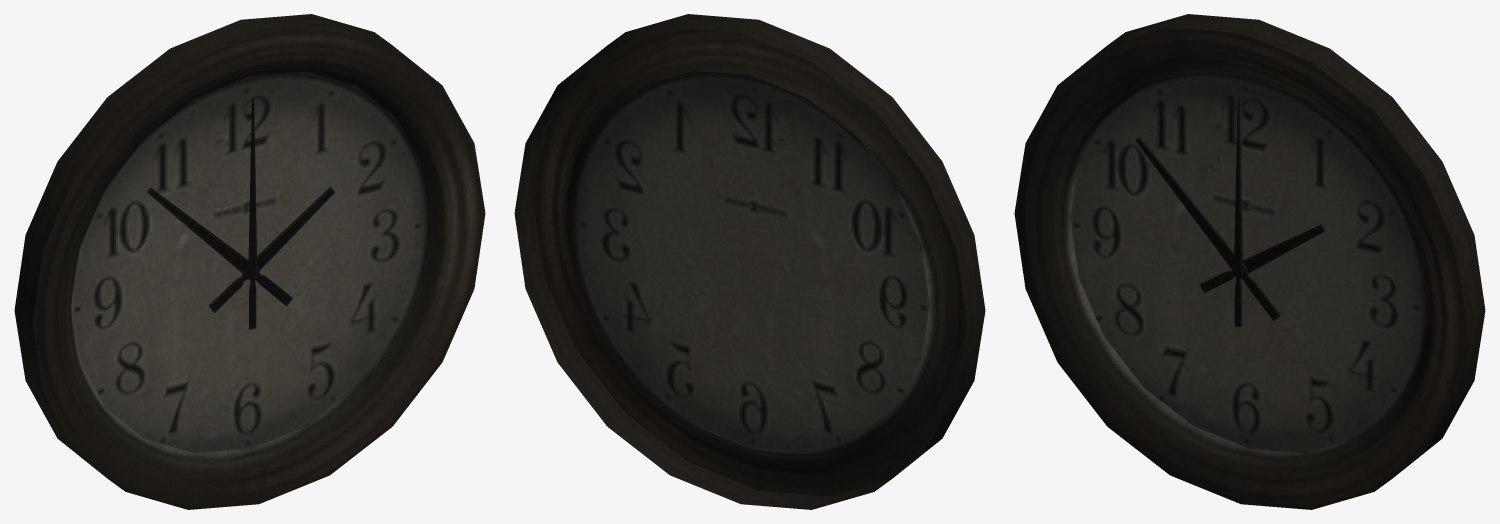
The model's file is clock_1.obj.
3 views of the same model, side by side, from view 1: azimuth 30°, elevation 25°; view 2: azimuth 150°, elevation 25°; view 3: azimuth 330°, elevation 25° (orthographic).
Visible parts, largest first — view 1: clock_1, clock_1_arm_minutes, clock_1_arm_hours, clock_1_arm_seconds; view 2: clock_1; view 3: clock_1, clock_1_arm_minutes, clock_1_arm_seconds, clock_1_arm_hours.
Part boxes in pixels (x1,y1,x2,y2): clock_1: (14,14,485,509); clock_1_arm_minutes: (147,187,292,306); clock_1_arm_hours: (209,186,335,312); clock_1_arm_seconds: (248,97,257,329); clock_1: (514,14,985,509); clock_1: (1014,14,1485,509); clock_1_arm_minutes: (1135,136,1281,320); clock_1_arm_seconds: (1234,95,1243,327); clock_1_arm_hours: (1199,224,1325,293).
Size of the model in its own units: 0.4023 by 0.4 by 0.03.
